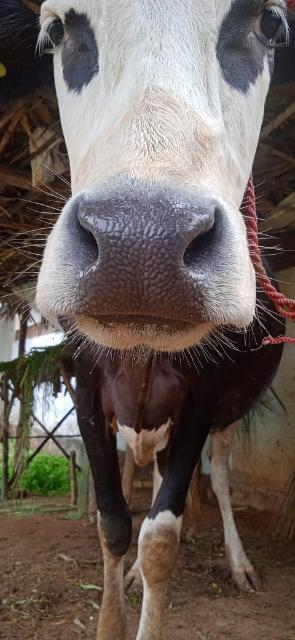Muzzle: (79, 195, 207, 317)
